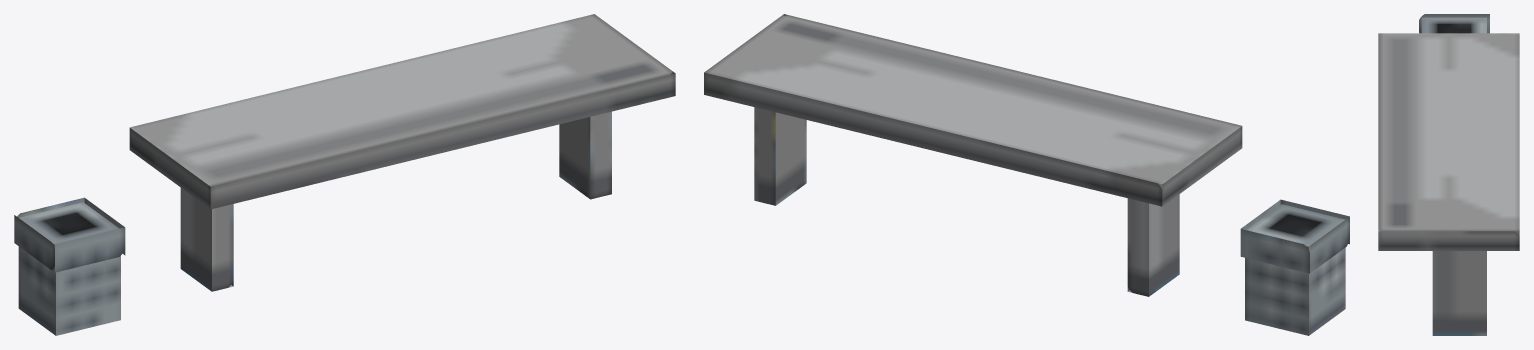
The model's file is table_return.fbx.
The picture shows the model from 3 angles, left to right: view 1: azimuth 30°, elevation 25°; view 2: azimuth 150°, elevation 25°; view 3: azimuth 270°, elevation 25°; orthographic projection. The views are drawn at different scales.
Parts seen in each view (by area): view 1: cube_1, cube; view 2: cube_1, cube; view 3: cube_1, cube.
Boxes of the visible parts, bbox=[...] form: cube_1: bbox=[129, 14, 675, 291]; cube: bbox=[14, 197, 125, 335]; cube_1: bbox=[704, 14, 1242, 296]; cube: bbox=[1240, 199, 1349, 335]; cube_1: bbox=[1378, 33, 1519, 335]; cube: bbox=[1419, 14, 1489, 33].
Size of the model in its own units: 345 by 75 by 81.25.
Materials: 1 (1 with a texture image).
